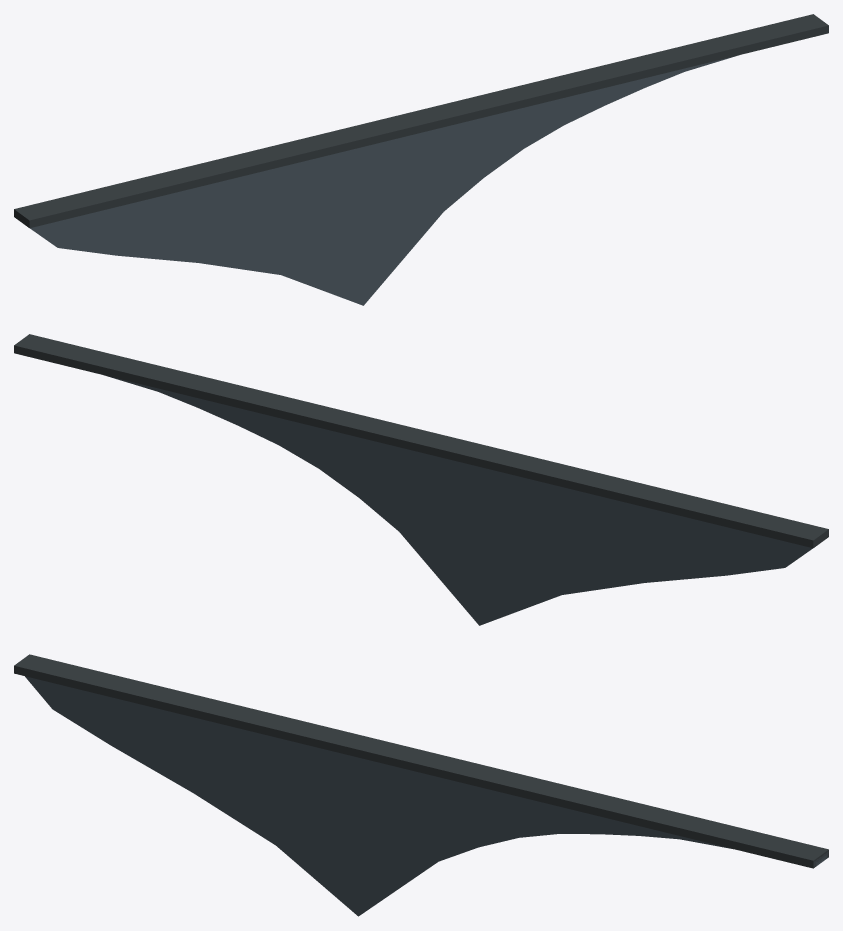
The model's file is Leme.obj.
The picture shows the model from 3 angles, top to bottom: view 1: azimuth 30°, elevation 25°; view 2: azimuth 150°, elevation 25°; view 3: azimuth 330°, elevation 25°; orthographic projection.
Parts seen in each view (by area): view 1: Leme_Sphere.009; view 2: Leme_Sphere.009; view 3: Leme_Sphere.009.
Part boxes in pixels (box(x1,y1,x2,y2)): Leme_Sphere.009: box(14, 14, 828, 305); Leme_Sphere.009: box(14, 334, 828, 625); Leme_Sphere.009: box(14, 654, 828, 916).
Size of the model in its own units: 11.43 by 2.35 by 0.3841.
1 material, 1 textured.
